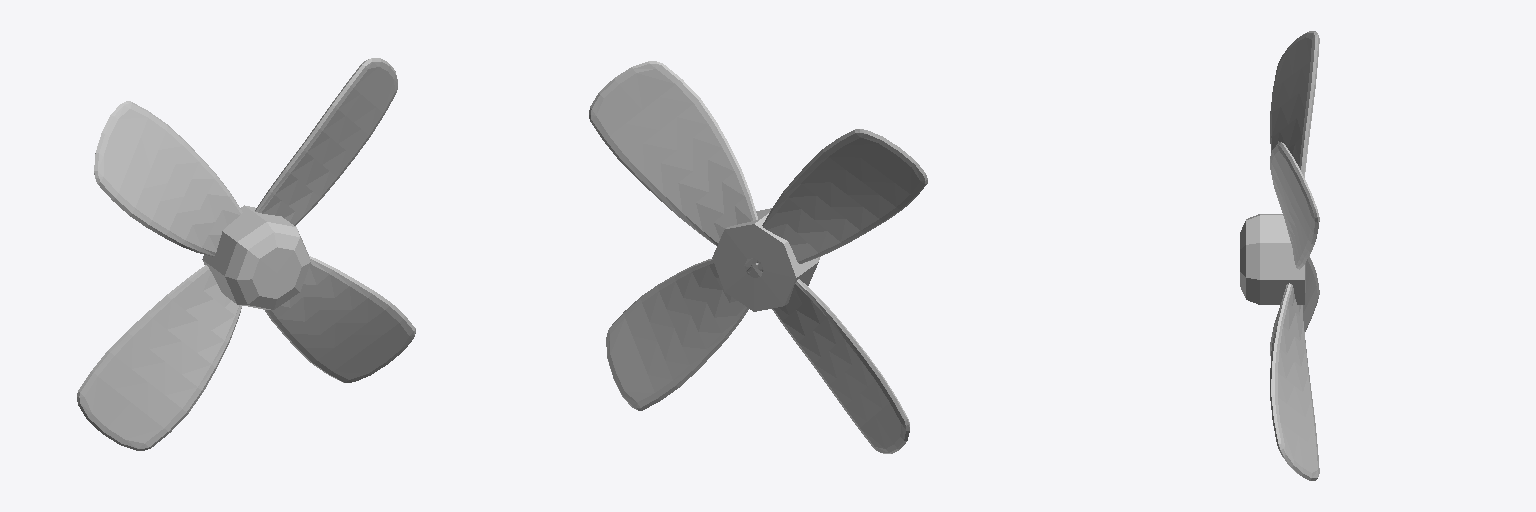
File: Fan_Blades.obj
3 views of the same model, side by side, from view 1: azimuth 30°, elevation 25°; view 2: azimuth 150°, elevation 25°; view 3: azimuth 270°, elevation 25° (orthographic).
Visible parts, largest first — view 1: FanB_Blades_low; view 2: FanB_Blades_low; view 3: FanB_Blades_low.
Part boxes in pixels (left/top/right/bottom): FanB_Blades_low: left=77, top=58, right=415, bottom=450; FanB_Blades_low: left=589, top=61, right=927, bottom=453; FanB_Blades_low: left=1240, top=31, right=1319, bottom=480.
Size of the model in its own units: 9.23 by 9.23 by 1.99.